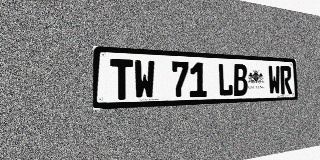1: (189, 62, 207, 97)
7: (170, 61, 189, 98)
B: (233, 64, 248, 96)
L: (218, 63, 233, 96)
R: (280, 66, 292, 94)
T: (110, 59, 133, 100)
W: (134, 60, 155, 99), (268, 65, 280, 95)
